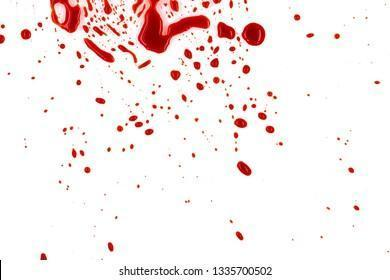Fire: (25, 0, 309, 218), (132, 0, 211, 52), (51, 0, 88, 32), (85, 40, 114, 62), (242, 22, 266, 46), (218, 22, 236, 38), (20, 29, 31, 40), (0, 34, 5, 44)
